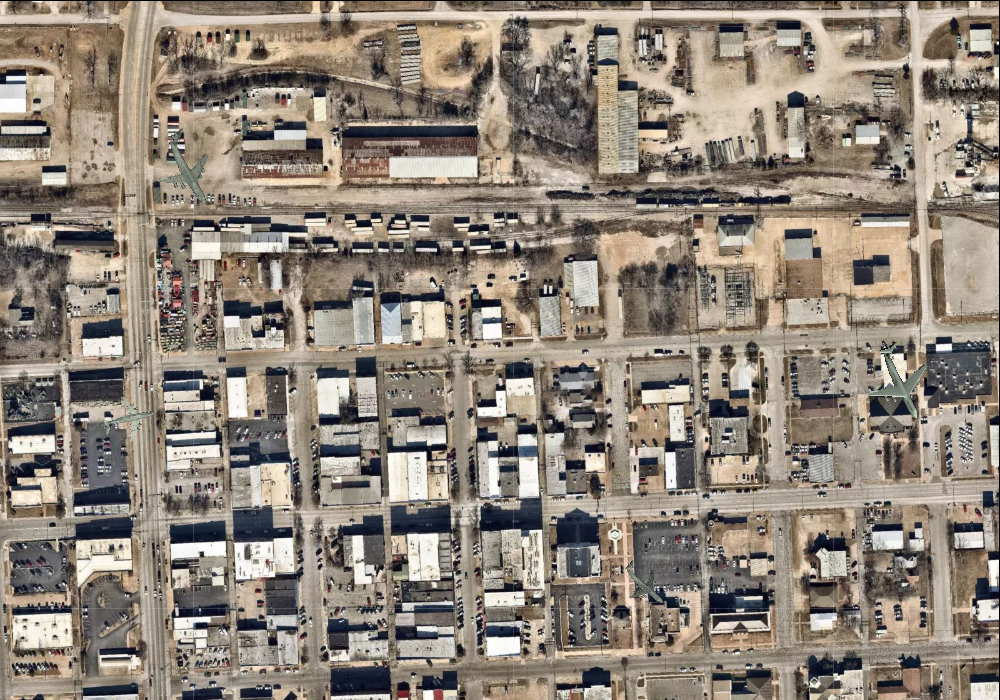plane: (850, 329, 952, 433), (138, 116, 238, 219), (610, 549, 679, 618), (97, 389, 160, 450)
